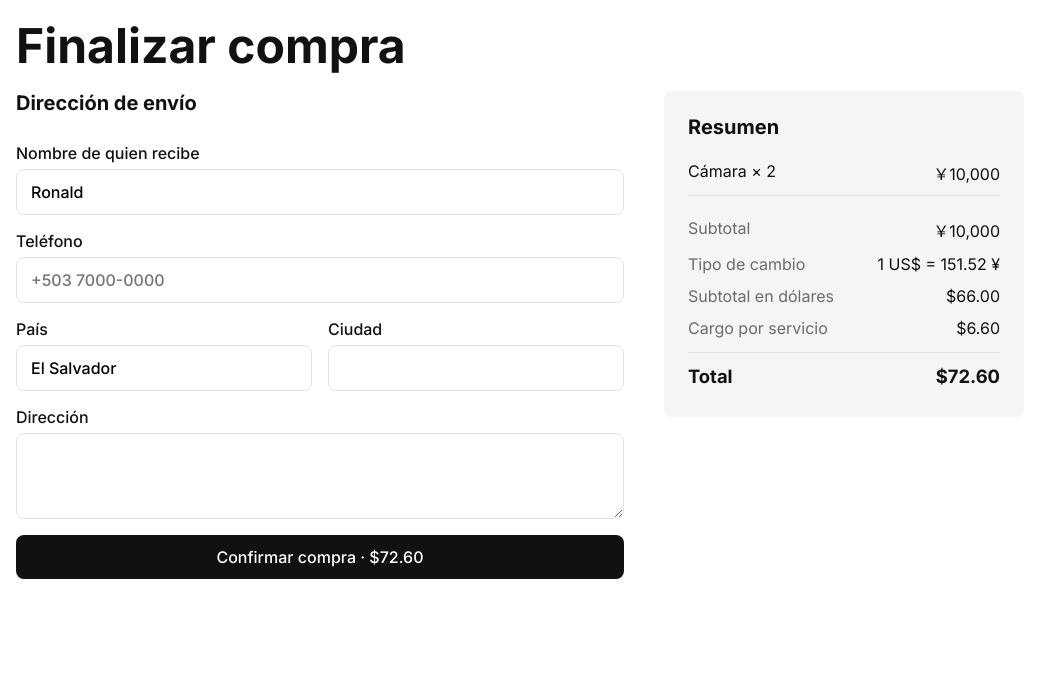
Test: TC-UI-07 Validación del checkout › rechaza la compra con teléfono inválido
Check: the button "Confirmar compra · $72.60" is enabled, box [16,535,624,579]
Type "abc" into the field labelled "Teléfono" at (320, 280), box [16,257,624,303]
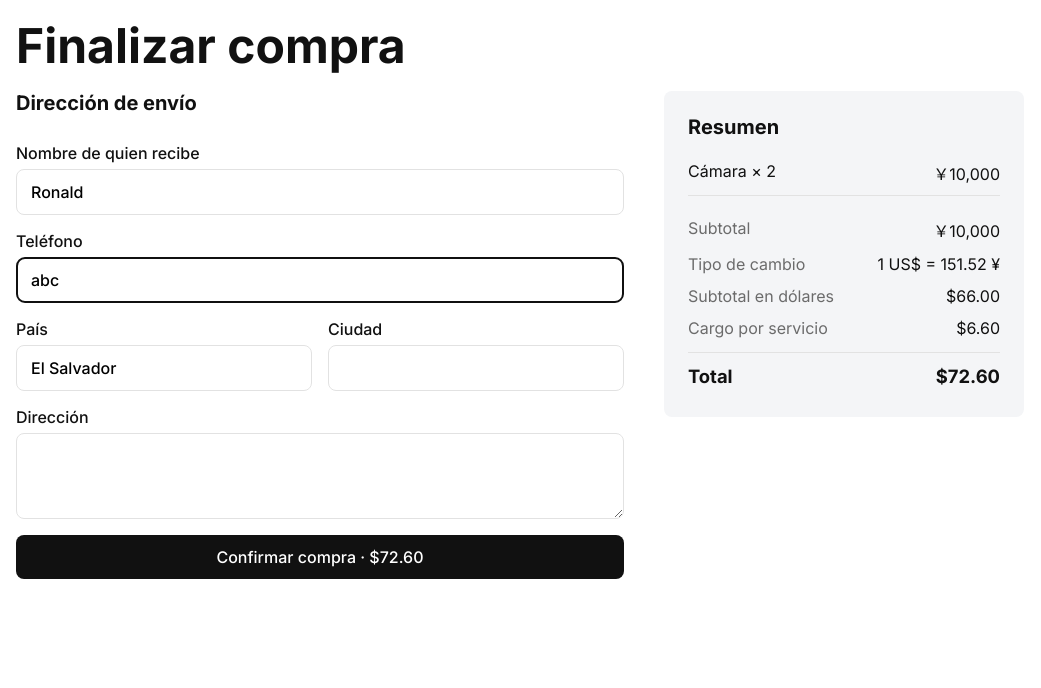
Type "San Salvador" into the field labelled "Ciudad" at (476, 368), box [328,345,624,391]
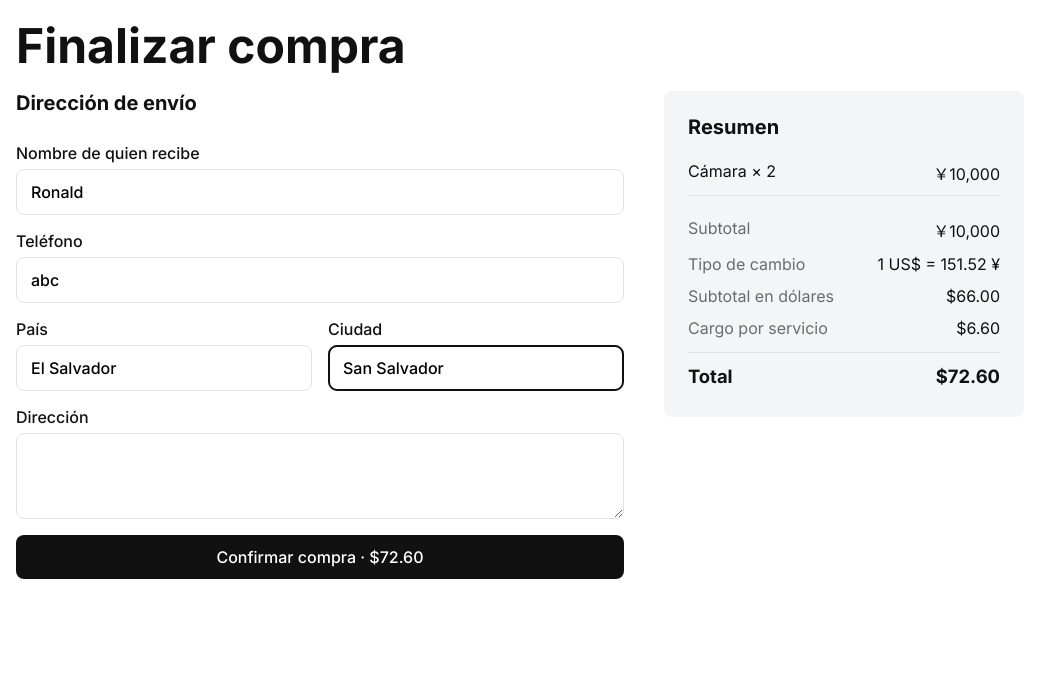
Type "Calle 1" into the text box labelled "Dirección" at (320, 476), box [16,433,624,519]
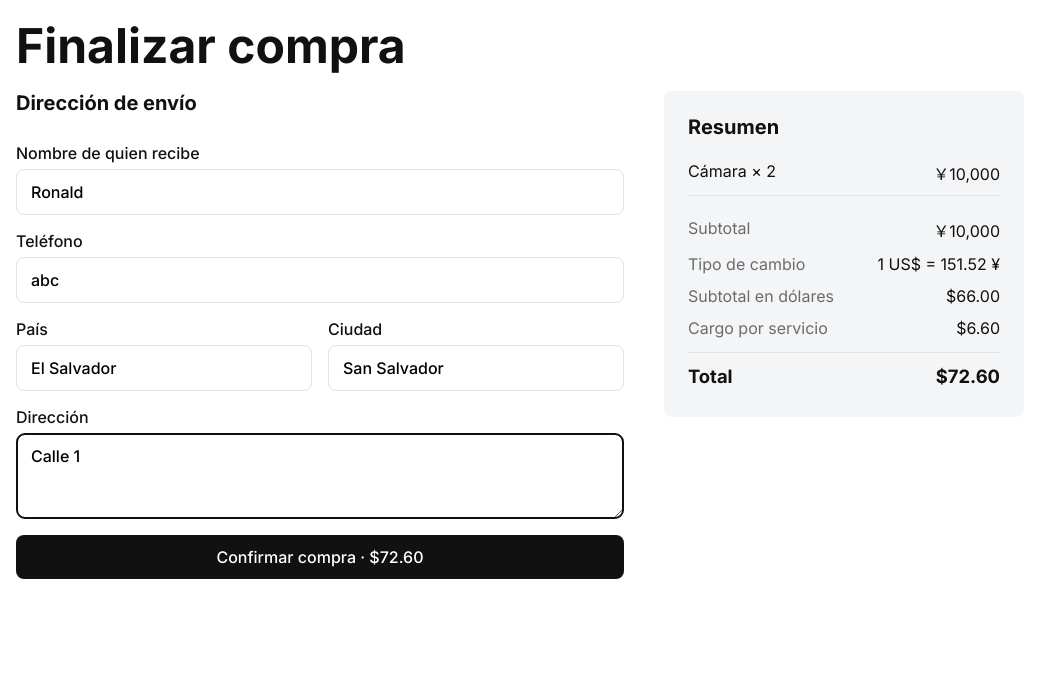
Click the button "Confirmar compra · $72.60" at (320, 557), box [16,535,624,579]
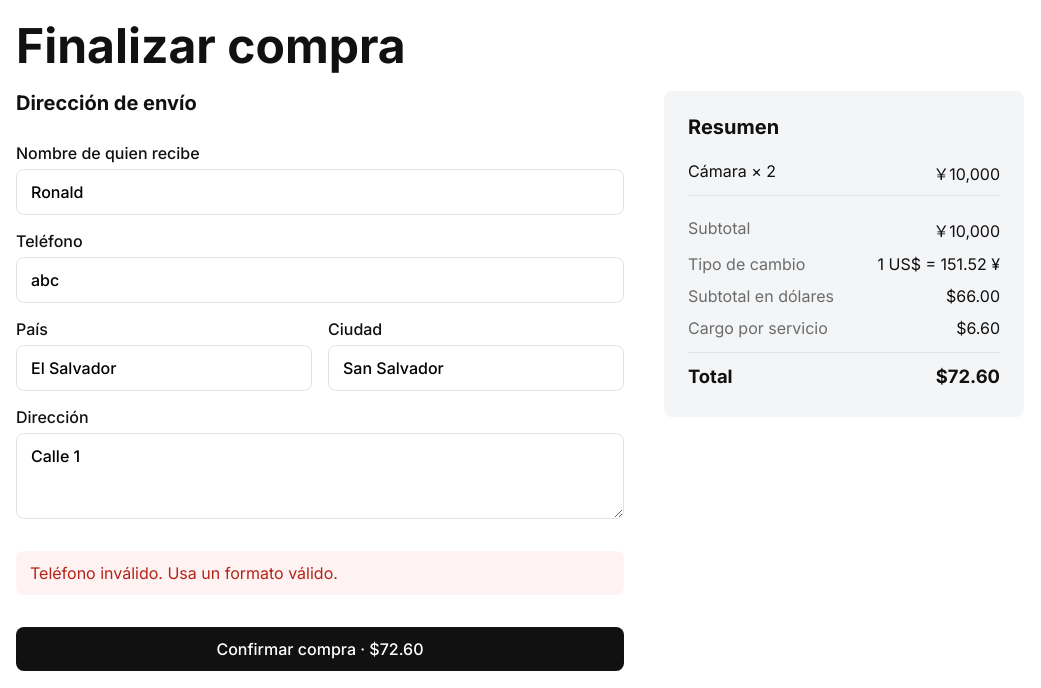
Check: the heading "Finalizar compra" is shown, box [16,16,406,75]
Check: the message shows "Teléfono inválido", box [30,563,338,583]
